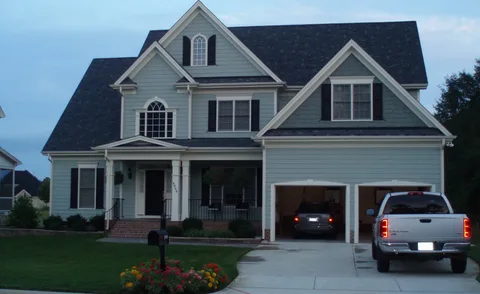private_hause: (91, 27, 369, 229)
